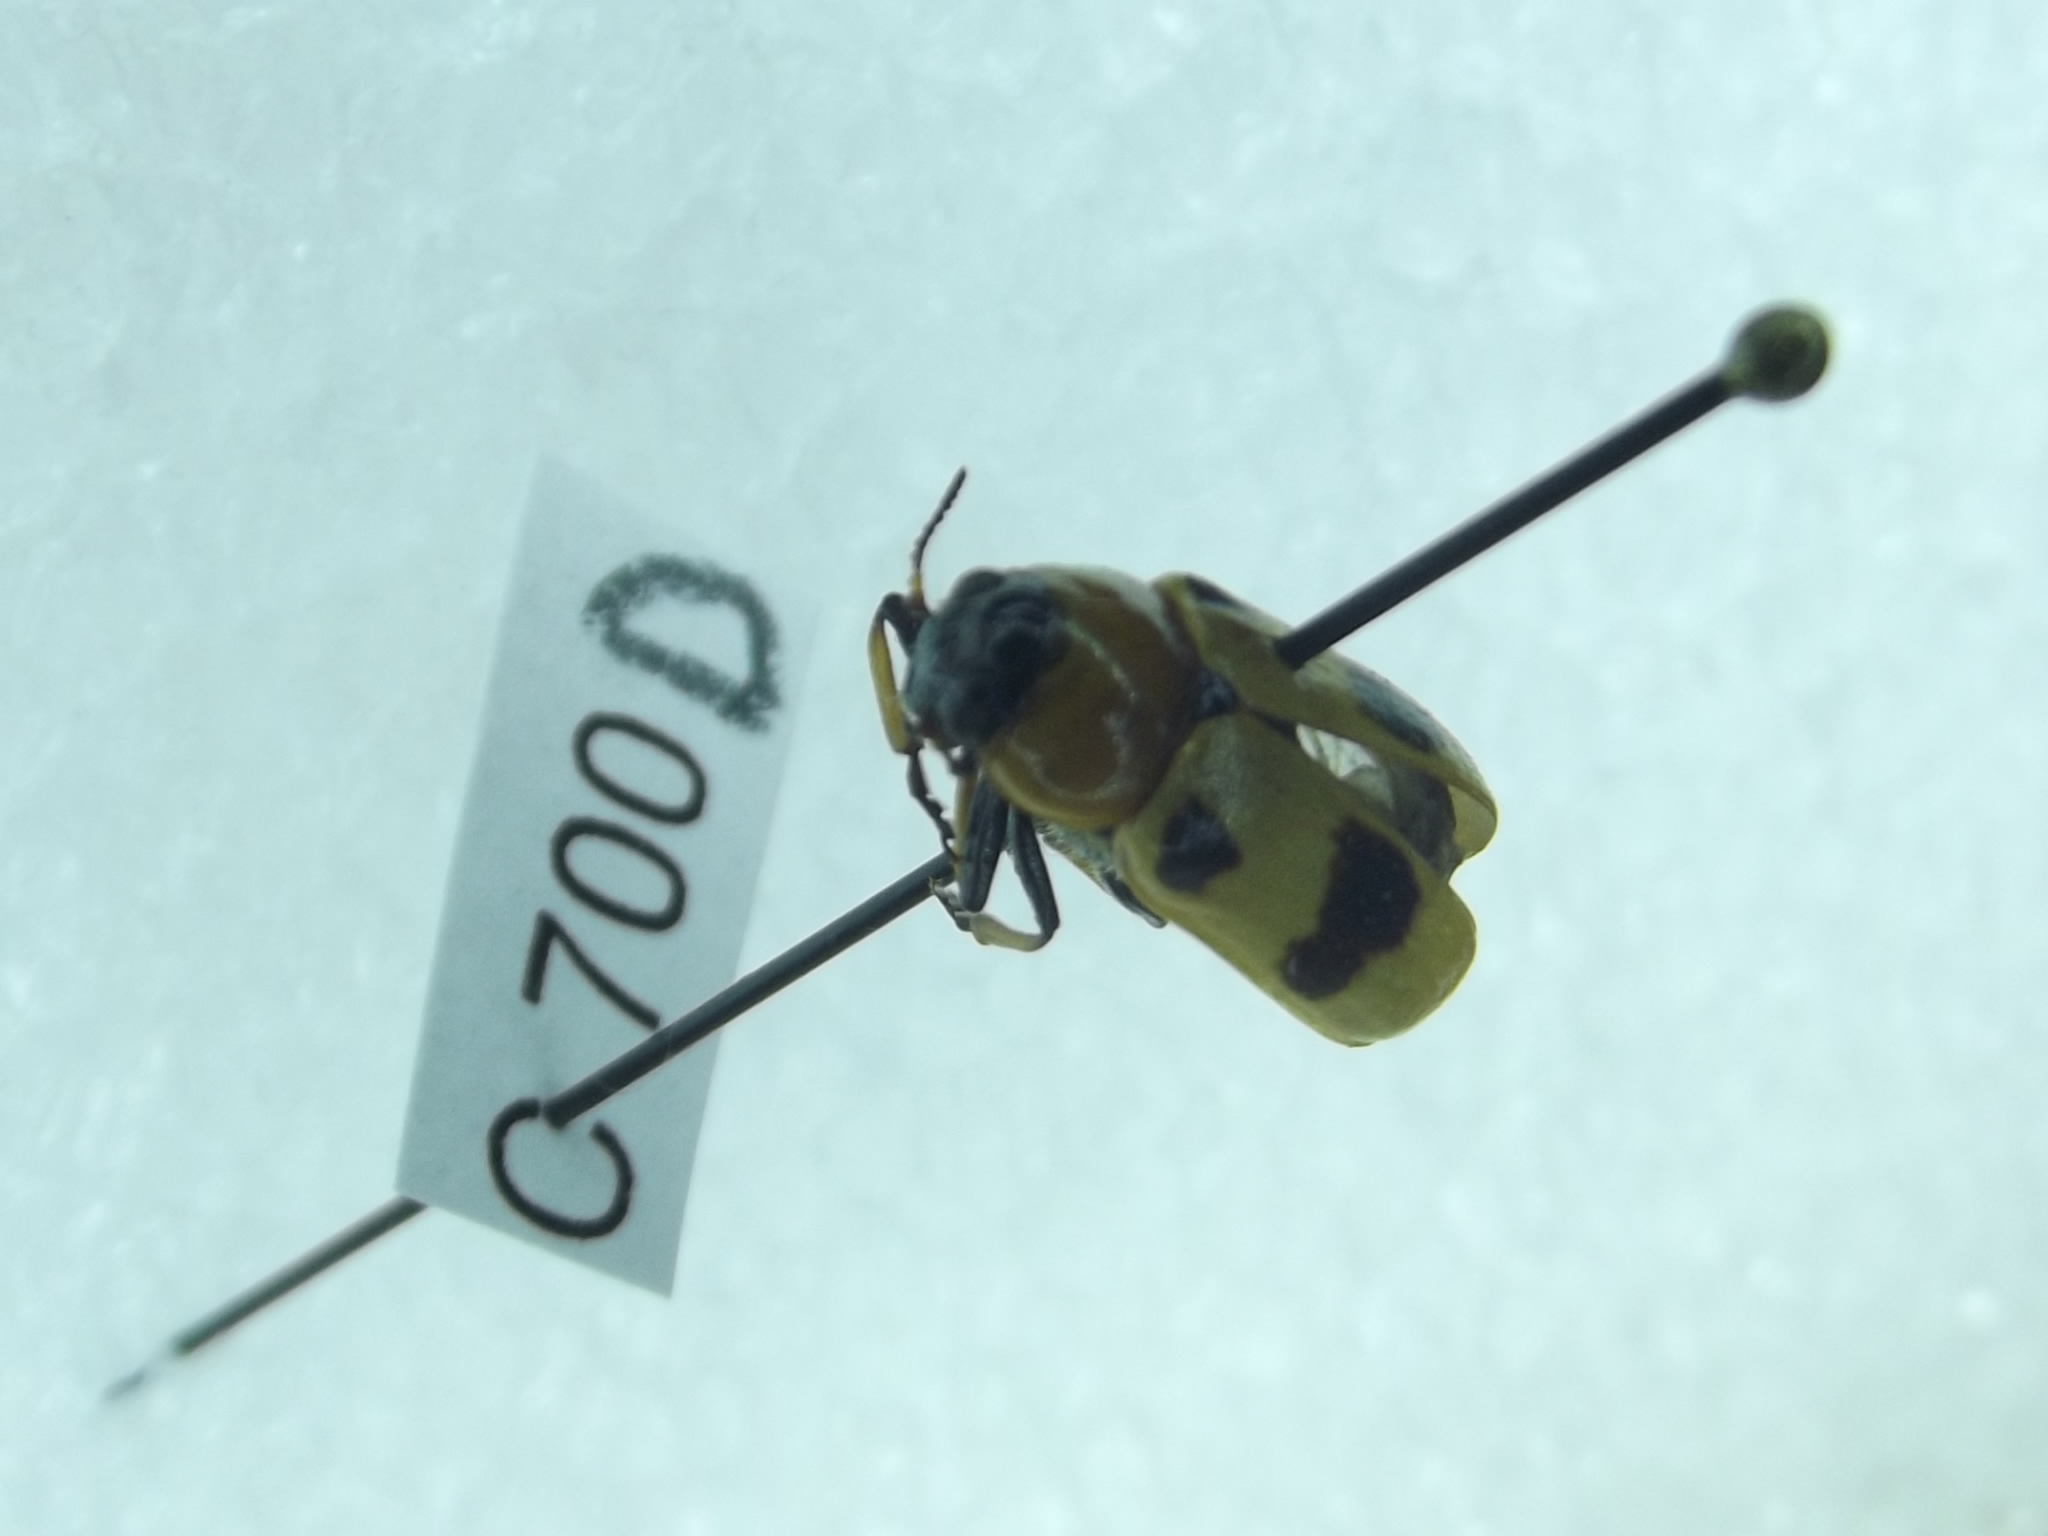Tituboea_macropus: (861, 450, 1517, 1070)
